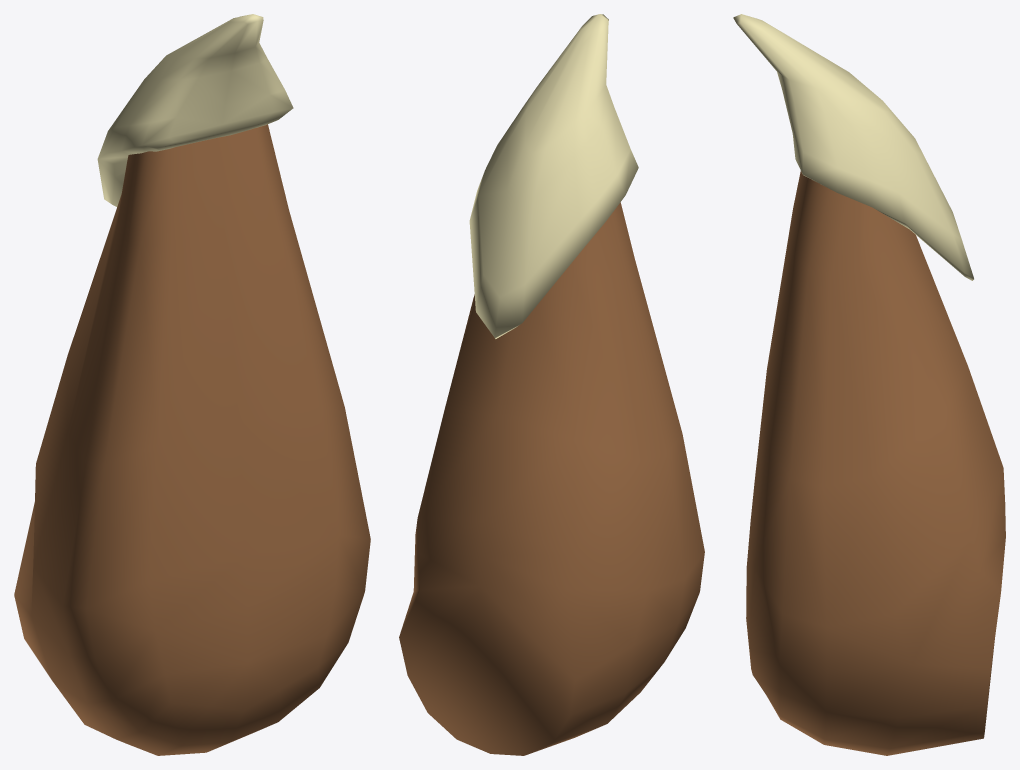
Rendered from Claw Foot.fbx.
The picture shows the model from 3 angles, left to right: view 1: azimuth 30°, elevation 25°; view 2: azimuth 150°, elevation 25°; view 3: azimuth 270°, elevation 25°; orthographic projection. The views are drawn at different scales.
Parts seen in each view (by area): view 1: Claw Foot - imohamed7 (MAVG); view 2: Claw Foot - imohamed7 (MAVG); view 3: Claw Foot - imohamed7 (MAVG).
Boxes of the visible parts, <box> form: Claw Foot - imohamed7 (MAVG): <box>14,14,370,755</box>; Claw Foot - imohamed7 (MAVG): <box>399,14,704,755</box>; Claw Foot - imohamed7 (MAVG): <box>733,14,1005,755</box>.
Bounding box in the file's own units: 39.22 × 103 × 34.97.
